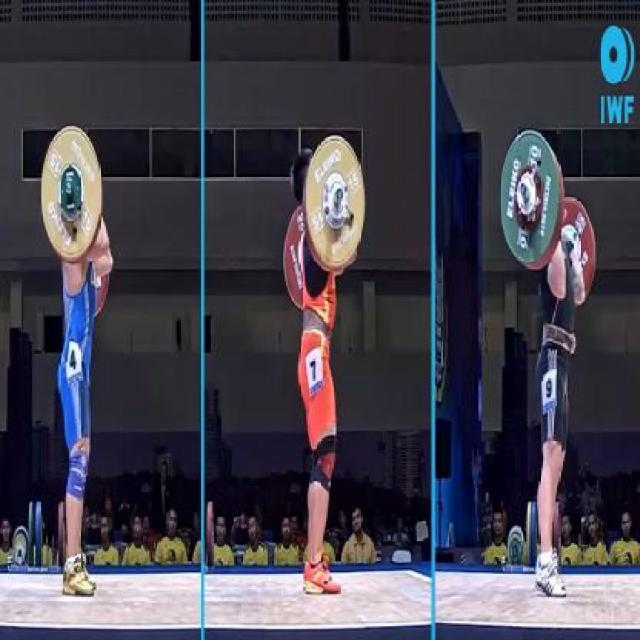barbell: (495, 124, 572, 281), (299, 127, 371, 281), (40, 119, 111, 271)
